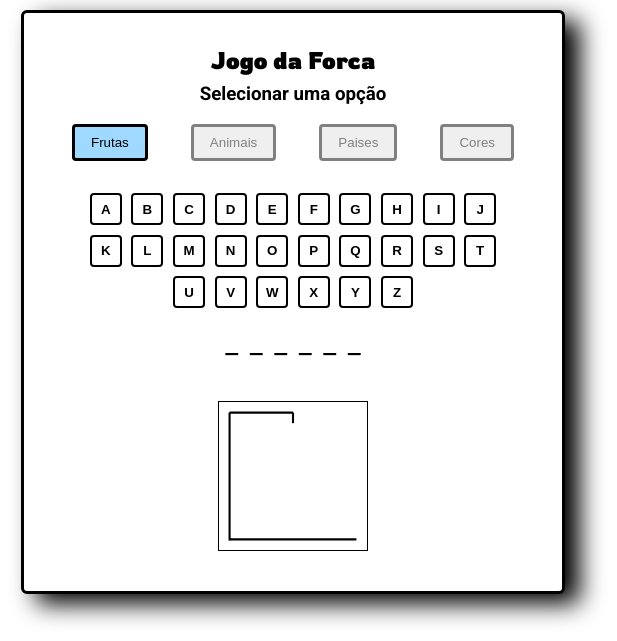
HangmanGame › sem login sorteia no navegador e vence ao completar a palavra
The image size is (617, 641).
Earlier steps of the test are not shown.
Expected: the element named "Letras" is shown, [72,193,514,308]
Expected: the button "Animais" is disabled, [191,124,276,161]
Click the button "A" at coordinates (106, 209), box [90,193,122,225]
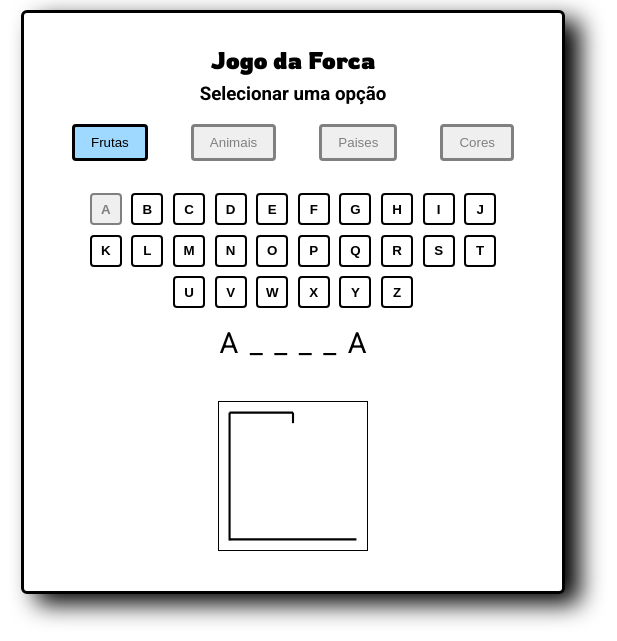
Click the button "Z" at coordinates (397, 292), box [381,276,413,308]
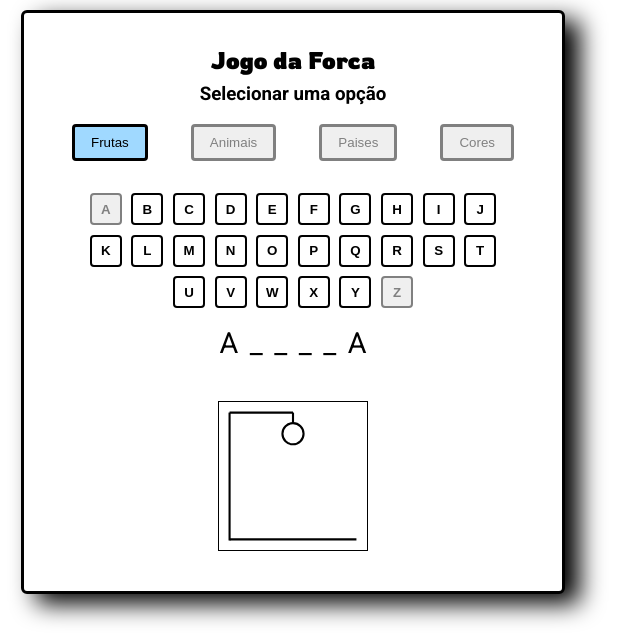
Result: the button "Z" is disabled at [381,276,413,308]
Result: the picture named "Forca: 1 de 6 erros" is shown at [218,400,368,550]
Click the button "M" at coordinates (189, 251), box [173,235,205,267]
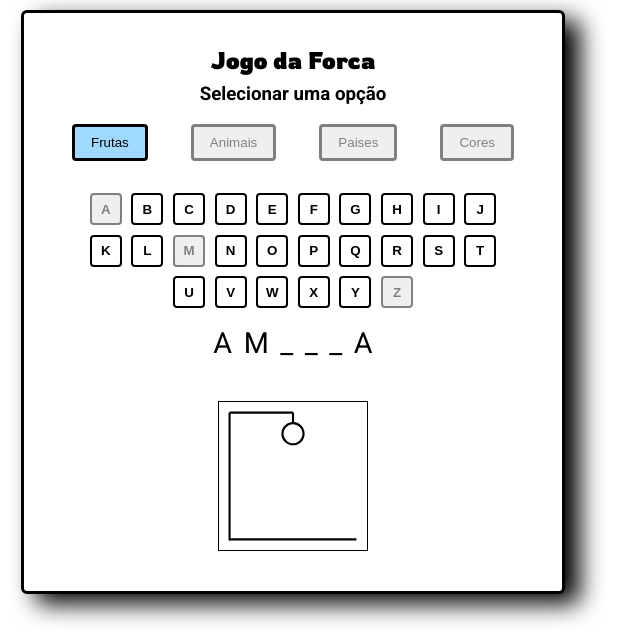
Click the button "E" at coordinates (272, 209), box [256,193,288,225]
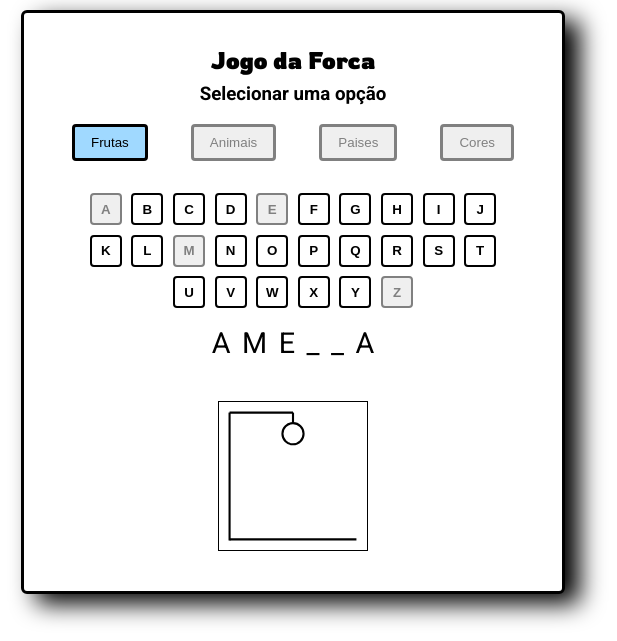
Click the button "I" at coordinates (439, 209), box [423,193,455,225]
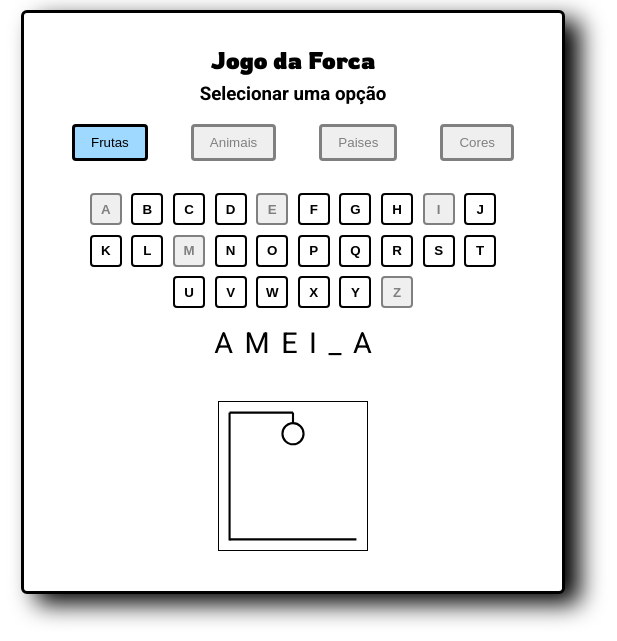
Click the button "X" at coordinates (314, 292), box [298,276,330,308]
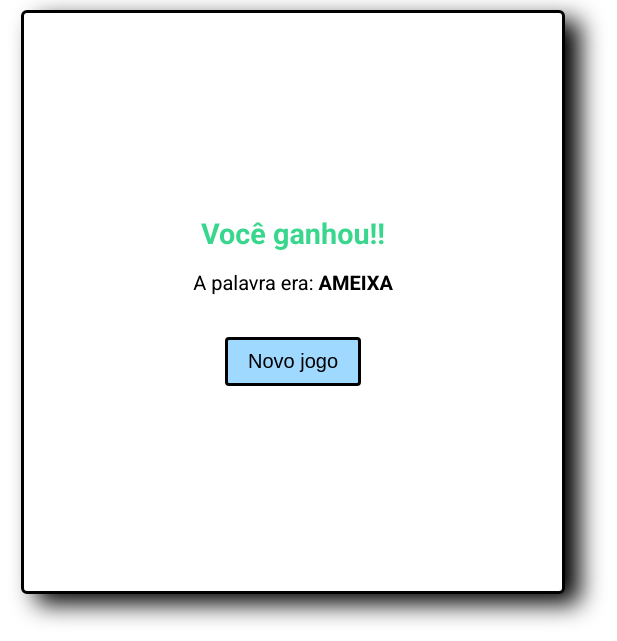
Result: the heading "Você ganhou!!" is shown at [193,217,393,251]
Result: the text "AMEIXA" is shown at [318,271,393,295]
